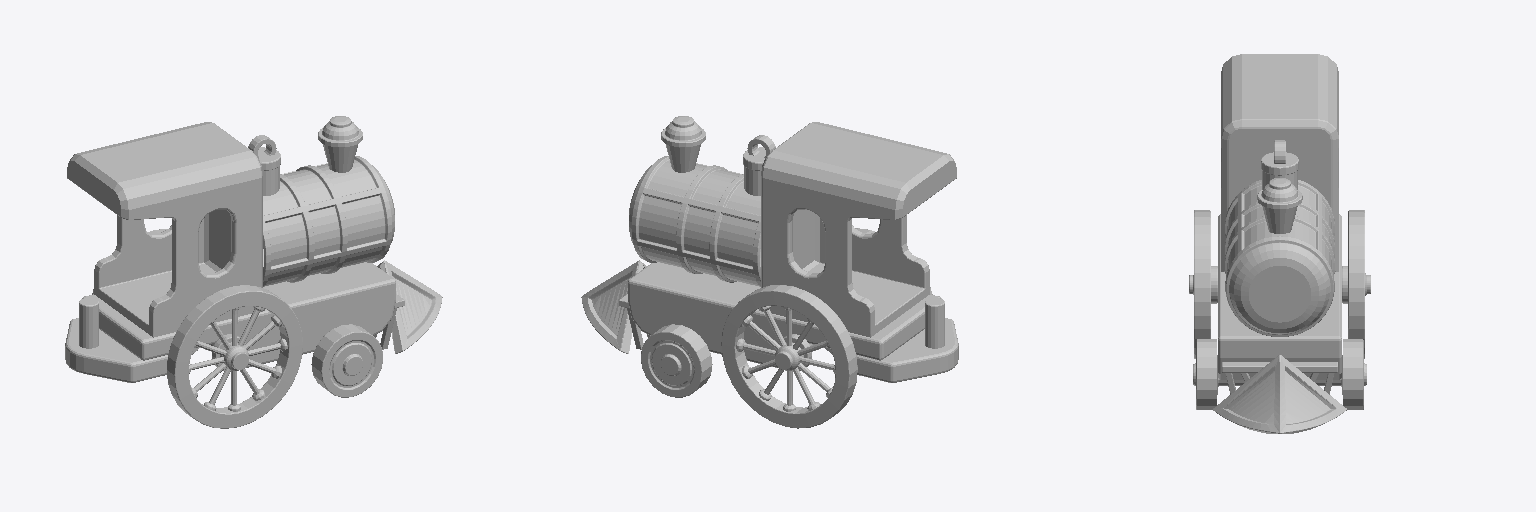
The model's file is train.obj.
The picture shows the model from 3 angles: view 1: azimuth 30°, elevation 25°; view 2: azimuth 150°, elevation 25°; view 3: azimuth 270°, elevation 25°; orthographic projection.
Visible parts, largest first — view 1: 3; view 2: 3; view 3: 3.
Part boxes in pixels (x1,y1,x2,y2): 3: (65,116,442,428); 3: (581,116,958,428); 3: (1189,54,1370,433).
Size of the model in its own units: 3.89 by 2.5 by 1.64.